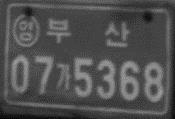0: (8, 54, 31, 94)
3: (95, 58, 117, 99)
5: (72, 56, 93, 97)
6: (118, 59, 142, 102)
7: (33, 54, 55, 97)
8: (142, 61, 166, 103)
가: (55, 62, 73, 93)
부산_D: (45, 15, 129, 49)
영: (12, 12, 41, 48)
